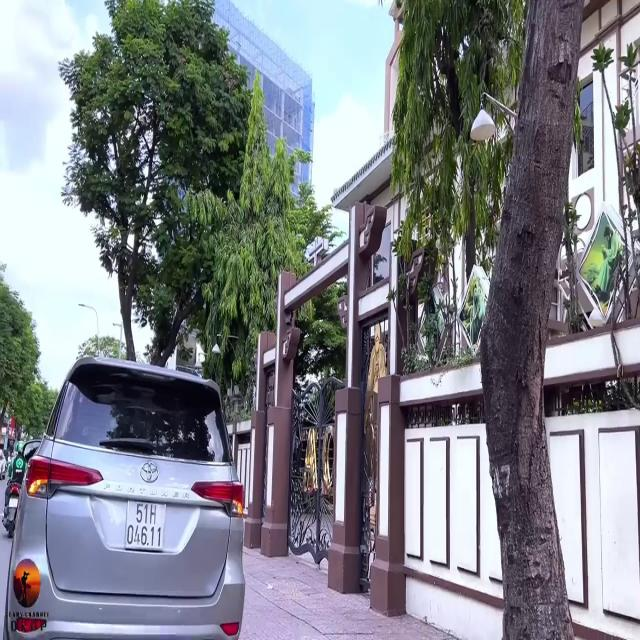bien_trang: (124, 495, 166, 554)
